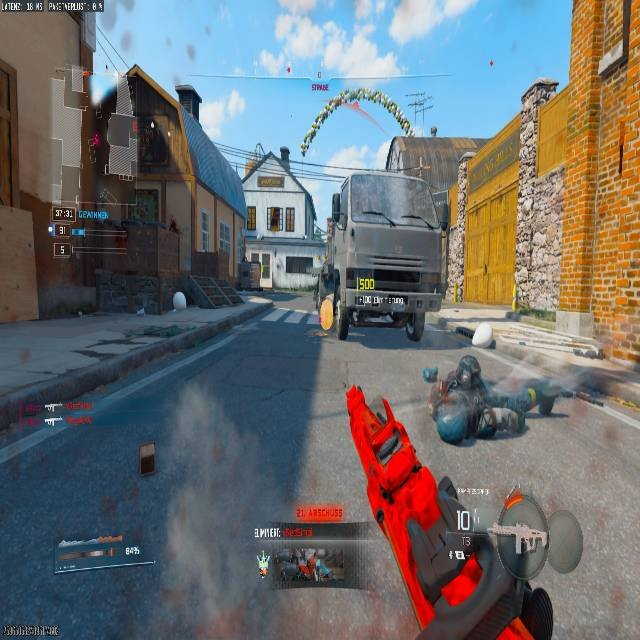head: (432, 395, 473, 445)
